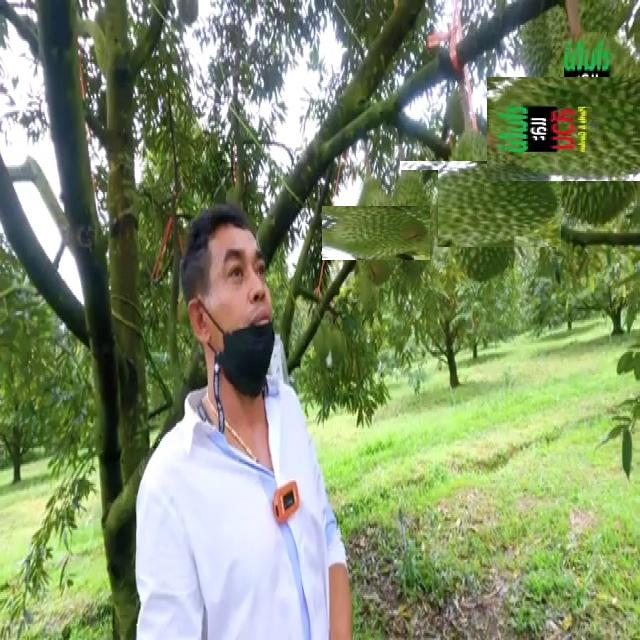durian: (511, 53, 640, 204), (418, 142, 542, 266), (336, 193, 417, 274), (385, 170, 438, 278)
